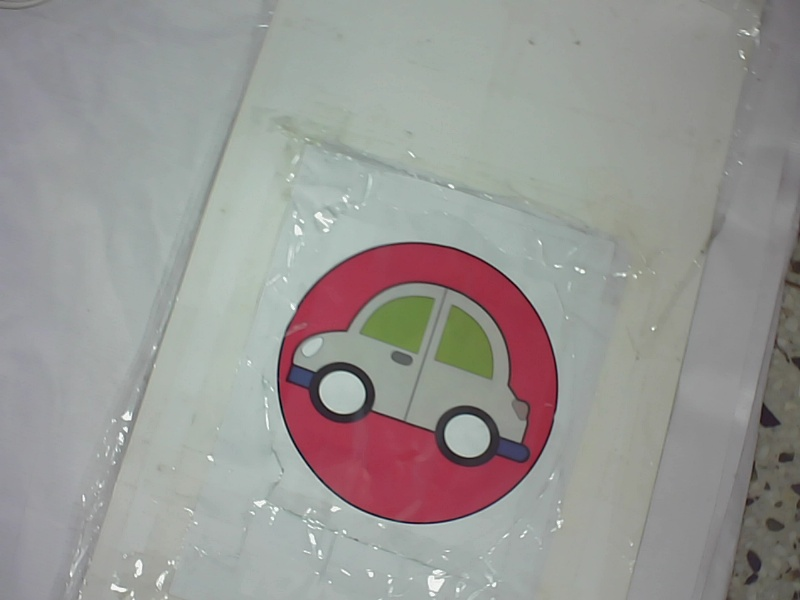areaC: (263, 239, 567, 531)
